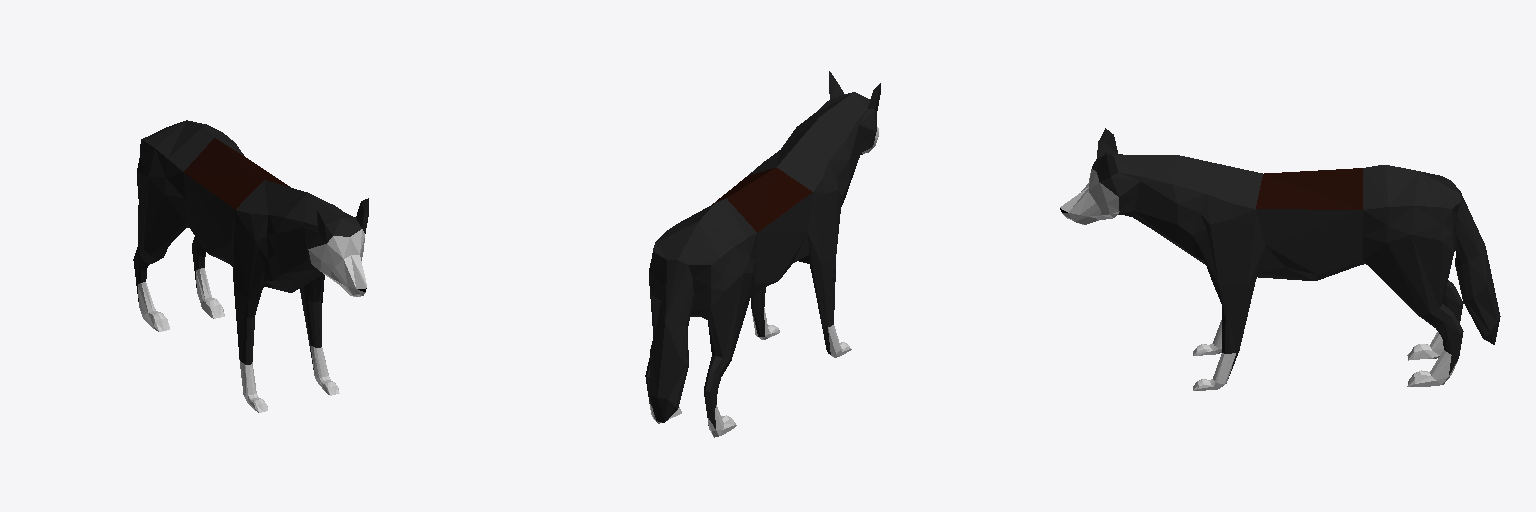
File: wolf.obj
3 views of the same model, side by side, from view 1: azimuth 30°, elevation 25°; view 2: azimuth 150°, elevation 25°; view 3: azimuth 270°, elevation 25° (orthographic).
Parts seen in each view (by area): view 1: Cylinder; view 2: Cylinder; view 3: Cylinder.
Boxes of the visible parts, x1,y1,x2,y2 form: Cylinder: [133, 120, 368, 412]; Cylinder: [645, 71, 880, 437]; Cylinder: [1060, 128, 1500, 390].
Size of the model in its own units: 1.77 by 4.66 by 8.07.